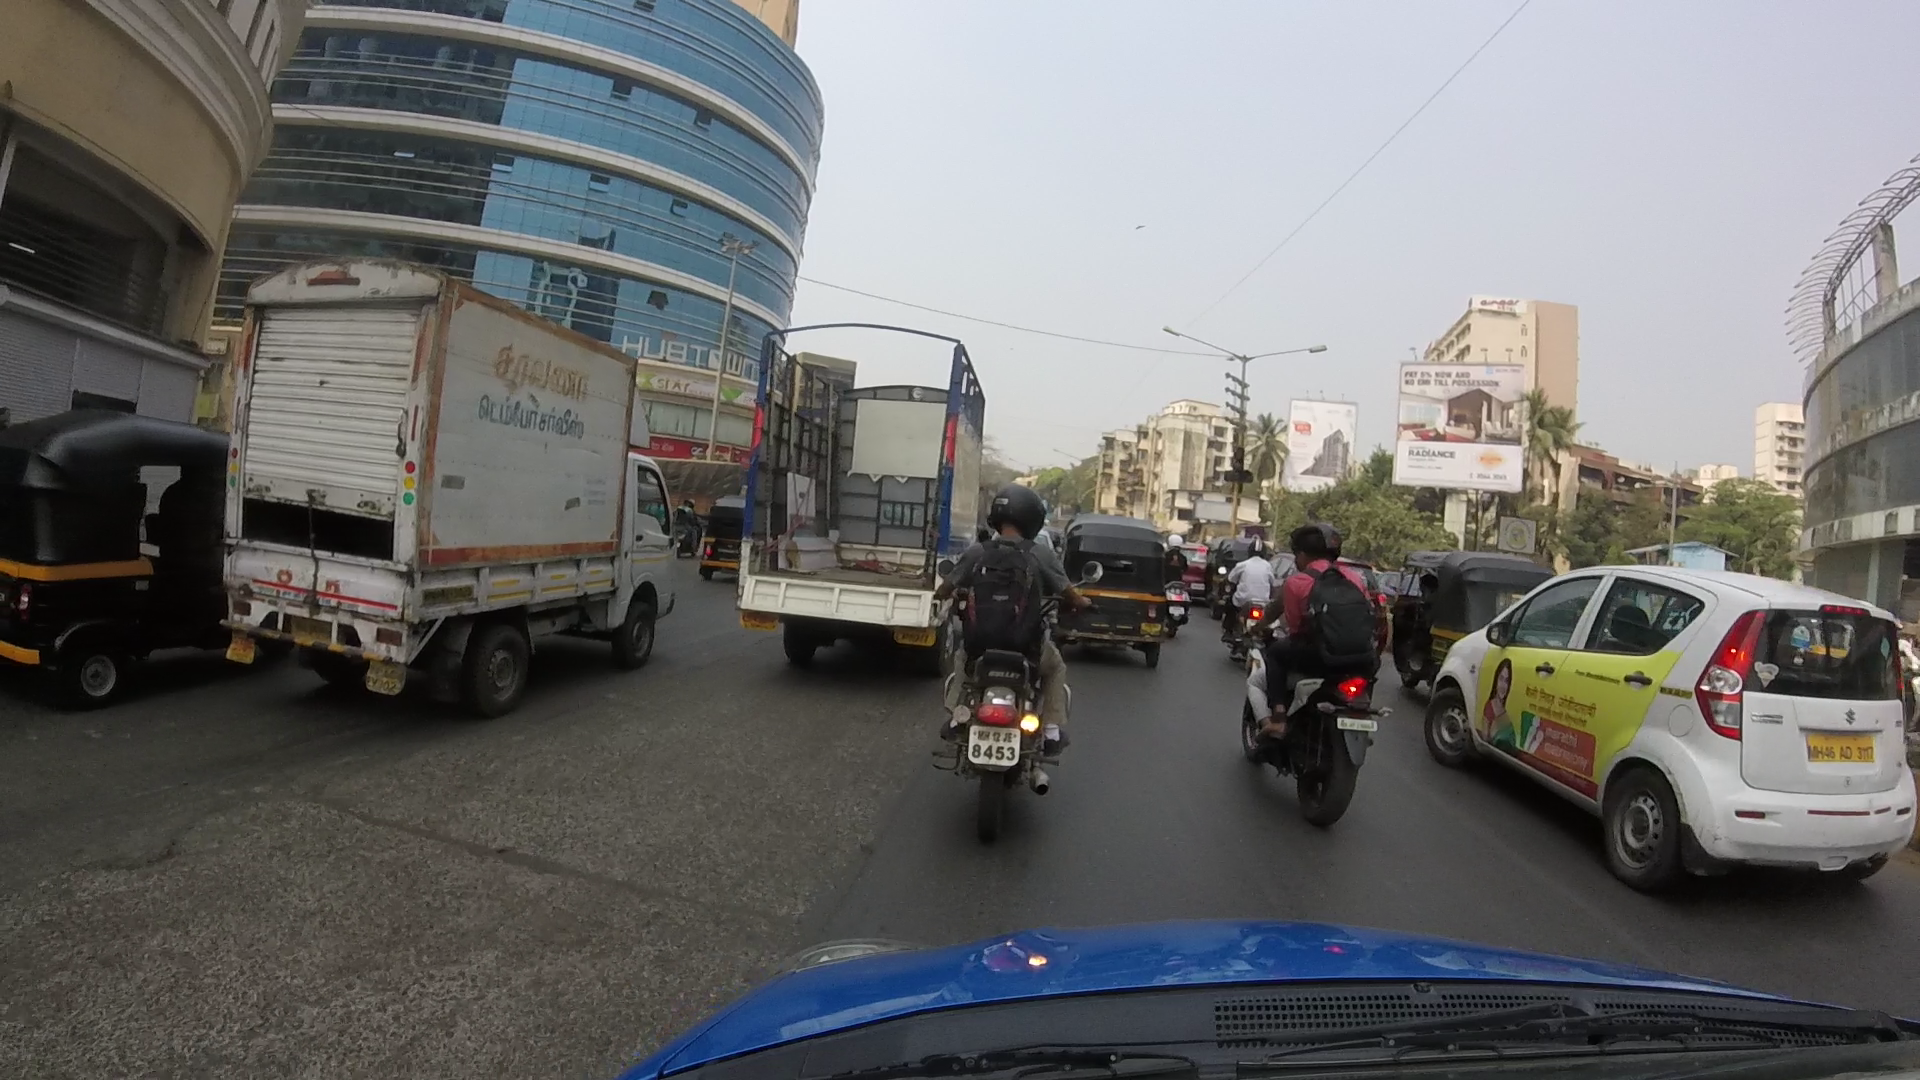bike/scooter: (1218, 542, 1381, 824), (940, 498, 1063, 804)
car: (1433, 568, 1920, 887)
rickshaw: (8, 413, 231, 698), (1058, 520, 1182, 657), (684, 492, 752, 572)
truck: (219, 260, 684, 695), (758, 316, 978, 651)
